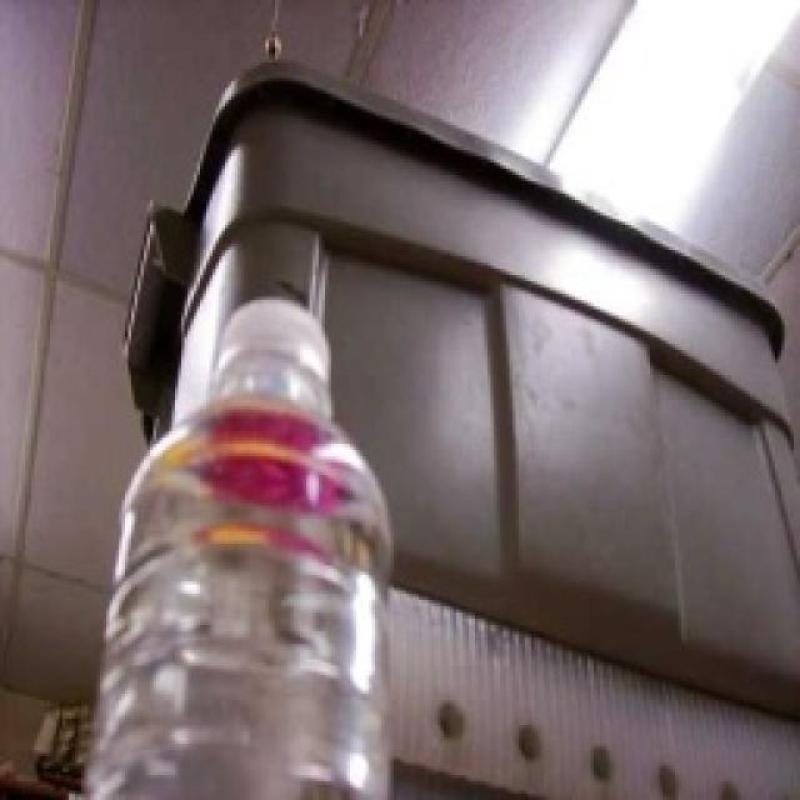botella: (106, 302, 394, 800)
